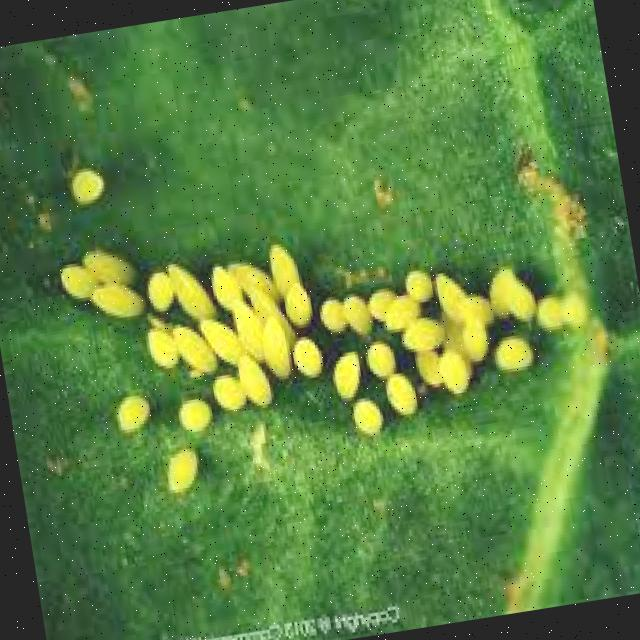whitefly: (0, 12, 640, 586)
